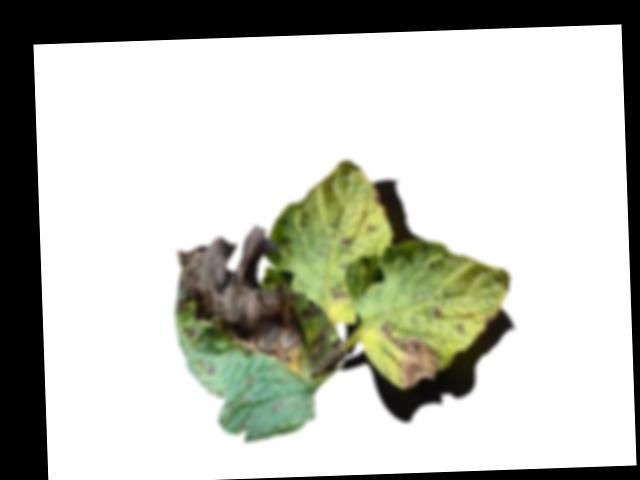Early_blight: (173, 223, 305, 373), (382, 316, 438, 390), (307, 325, 348, 379), (325, 280, 348, 301), (300, 297, 320, 317), (337, 236, 355, 249), (432, 302, 444, 317)
